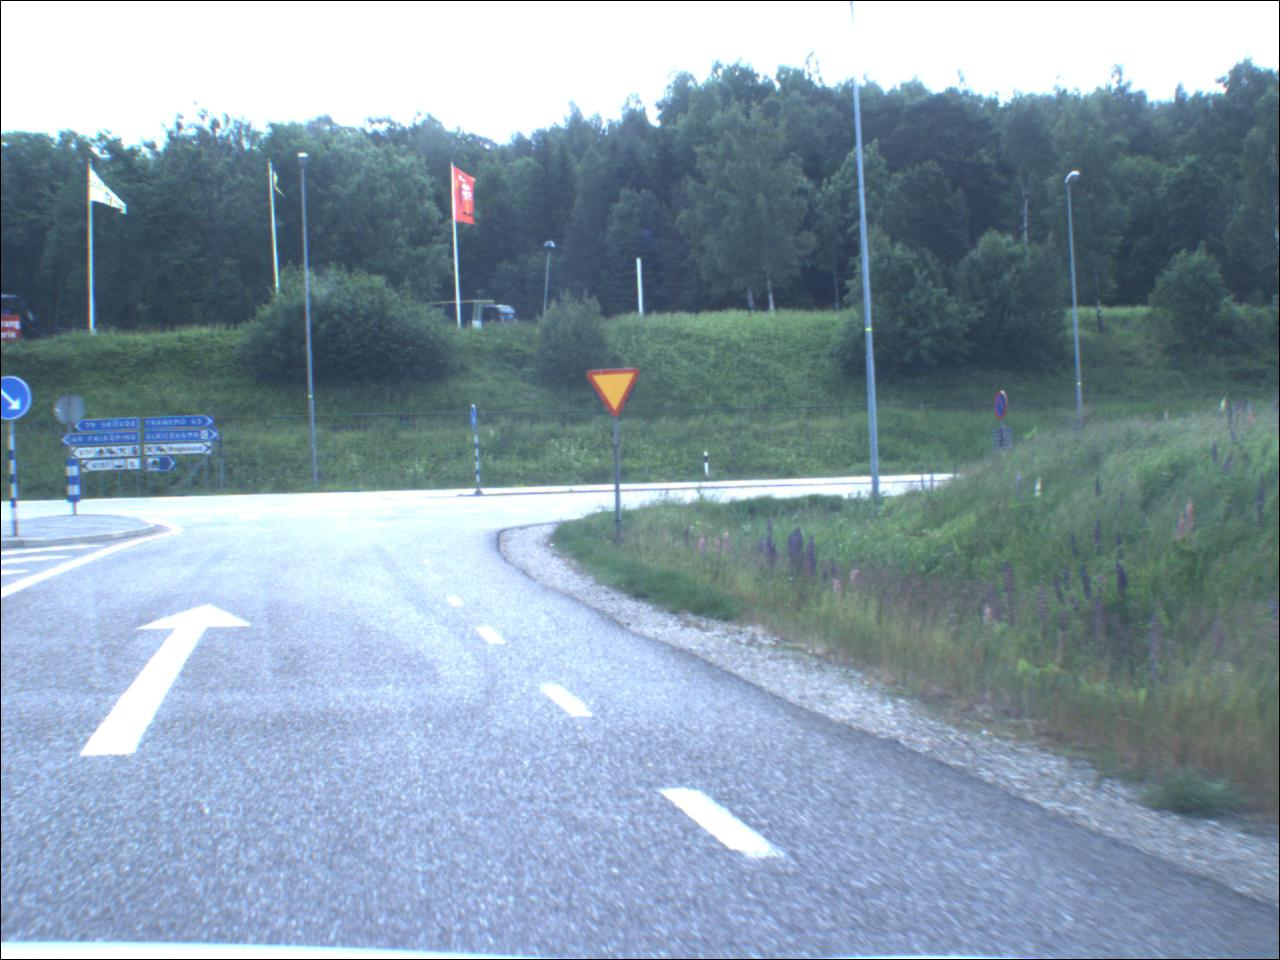GIVE_WAY: (584, 366, 643, 417)
NO_PARKING: (994, 391, 1014, 423)
PASS_RIGHT_SIDE: (3, 378, 35, 423), (469, 401, 482, 433)
